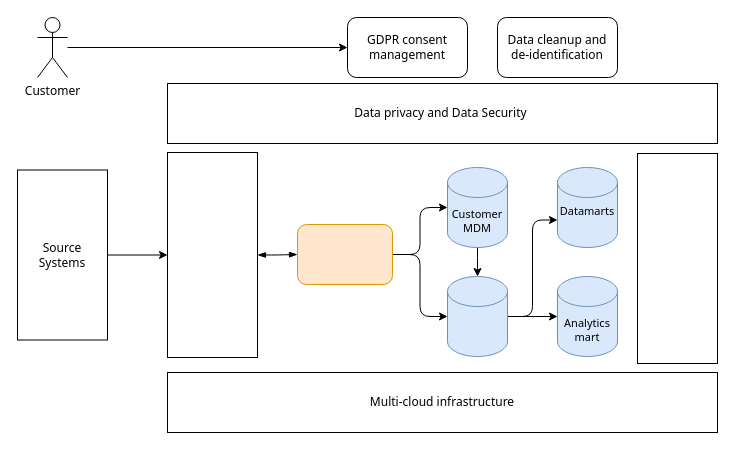
This 735x450 diagram has some shape labels left out. The centre of each missing label's shape, as x and y in pixels:
"Data Lake" goes at (x=212, y=255).
"Data Transformation and analytics" goes at (x=344, y=254).
"Data Visualization Layer" goes at (x=677, y=258).
"EDW" goes at (x=477, y=316).
